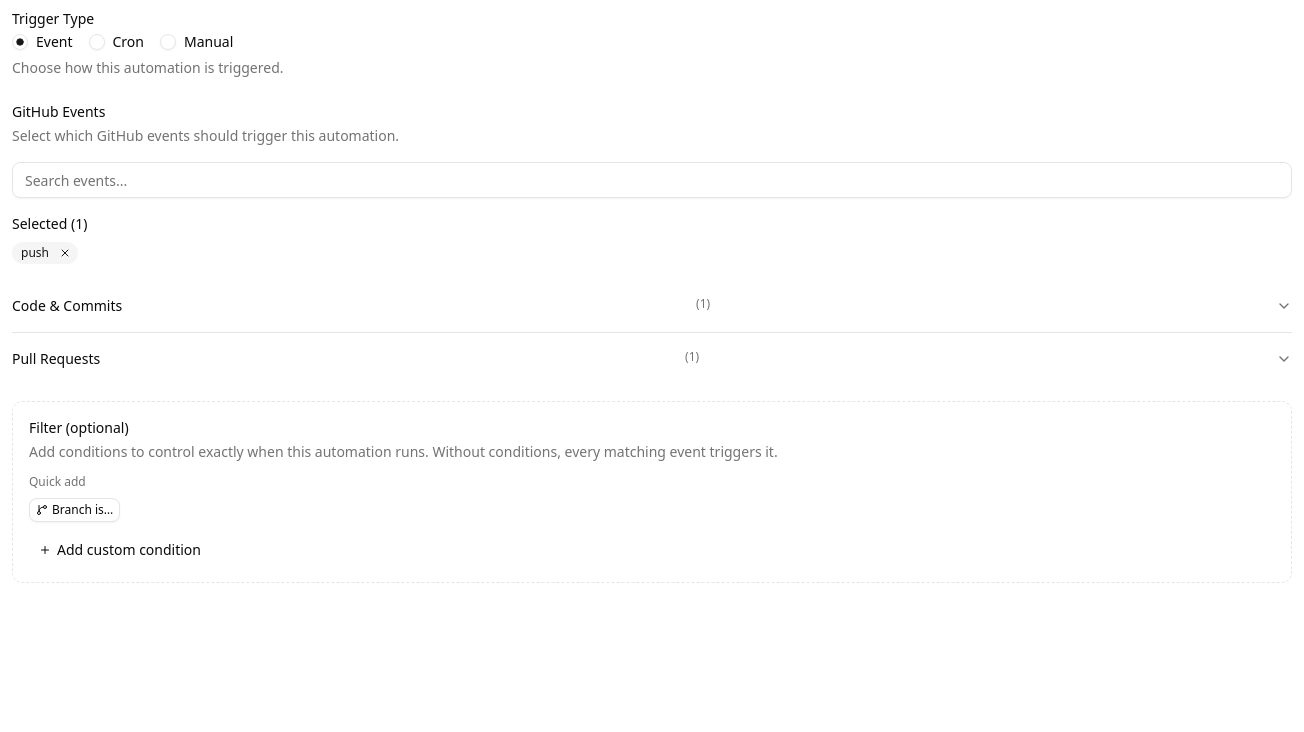
AutomationTriggerStep › Event trigger type › should deselect an event via checkbox
Expected: the text "Selected (1)" is shown, x1=12 y1=214 x2=87 y2=233
# Expand and click the checkbox again to deselect
Click the button "Code & Commits (1)" at (67, 306), box x1=12 y1=280 x2=1292 y2=332
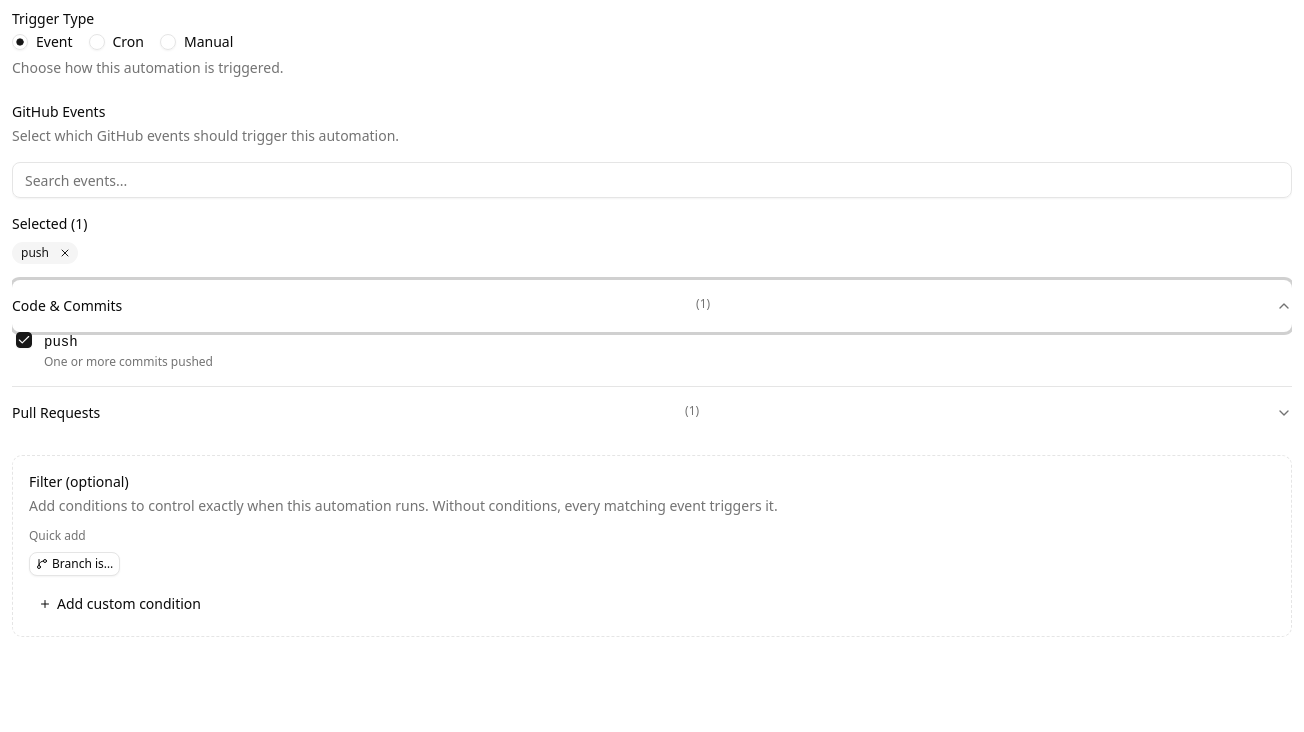
Now the checkbox named "push" is shown
Click the checkbox named "push" at (24, 340), box x1=16 y1=332 x2=32 y2=348
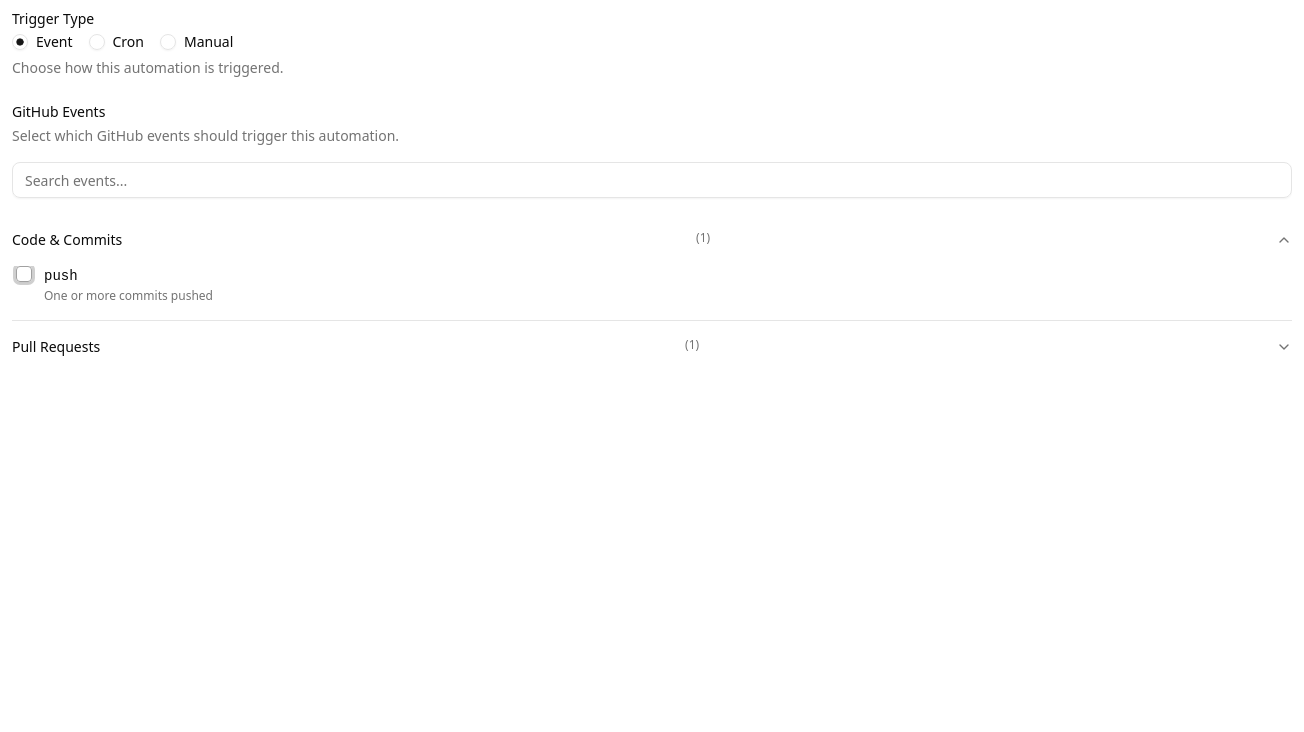
Now the text "Selected (1)" is gone
